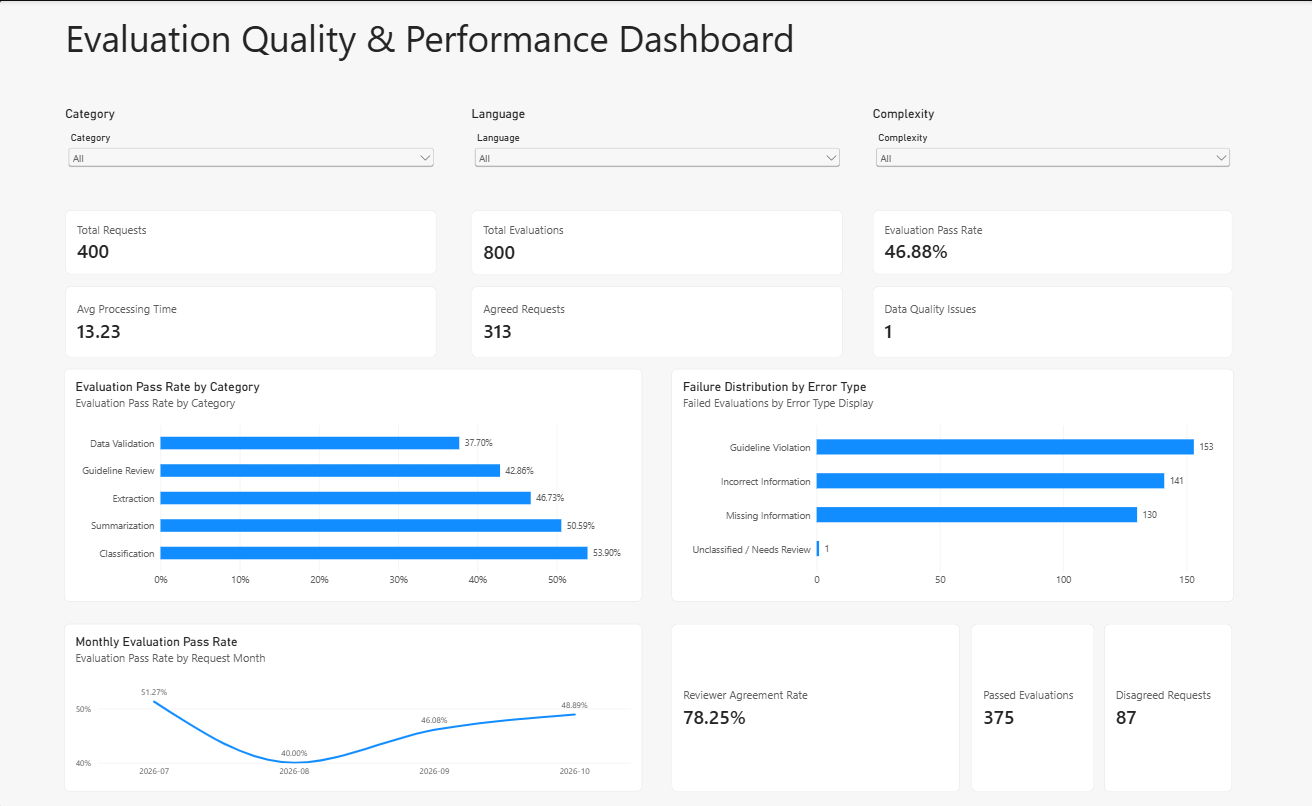

Layout of this report page (visuals, bound fields, positions):
{"tool":"powerbi","page":{"name":"Overview","canvas":[1920,1180],"ordinal":0},"visuals":[{"type":"cardVisual","fields":{"Data":["evaluations_cleaned.Total Evaluations"]},"box":[690.1,306,542.9,95.9],"z":0},{"type":"cardVisual","fields":{"Data":["evaluations_cleaned.Total Requests"]},"box":[96.9,306.9,542.9,94.1],"z":1000},{"type":"cardVisual","fields":{"Data":["_Measures.Avg Processing Time"]},"box":[96.9,417.2,542.9,105],"z":2000},{"type":"cardVisual","fields":{"Data":["_Measures.Passed Evaluations"]},"box":[1419.6,909.5,179.9,245.2],"z":3000},{"type":"cardVisual","fields":{"Data":["_Measures.Evaluation Pass Rate"]},"box":[1275.4,306.5,525.9,94.9],"z":4000},{"type":"cardVisual","fields":{"Data":["_Measures.Data Quality Issues"]},"box":[1275.4,417.2,525.9,104.8],"z":5000},{"type":"clusteredBarChart","title":"Evaluation Pass Rate by Category","fields":{"Category":["requests_cleaned.Category"],"Y":["_Measures.Evaluation Pass Rate"]},"box":[94.9,537.8,844.3,340.1],"z":6000},{"type":"clusteredBarChart","title":"Failure Distribution by Error Type","fields":{"Category":["evaluations_cleaned.Error Type Display"],"Y":["_Measures.Failed Evaluations"]},"box":[980.7,537.8,820.5,340.1],"z":7000},{"type":"lineChart","title":"Monthly Evaluation Pass Rate","fields":{"Category":["requests_cleaned.Request Month"],"Y":["_Measures.Evaluation Pass Rate"]},"box":[94.9,909.5,844.3,245.2],"z":8000},{"type":"cardVisual","fields":{"Data":["_Measures.Reviewer Agreement Rate"]},"box":[980.7,909.5,421.1,245.2],"z":9000},{"type":"cardVisual","fields":{"Data":["_Measures.Agreed Requests"]},"box":[690.1,417.2,542.9,105],"z":10000},{"type":"cardVisual","fields":{"Data":["_Measures.Disagreed Requests"]},"box":[1613.4,909.5,187.8,245.2],"z":11000},{"type":"slicer","title":"Category","fields":{"Values":["requests_cleaned.Category"]},"box":[96.9,154.2,542.9,105],"z":12000},{"type":"slicer","title":"Language","fields":{"Values":["requests_cleaned.Language"]},"box":[690.1,154.2,542.9,105],"z":13000},{"type":"slicer","title":"Complexity","fields":{"Values":["requests_cleaned.Complexity"]},"box":[1275.1,154.2,526.6,105],"z":14000},{"type":"textbox","box":[96.7,18.2,1103.3,92.9],"z":15000}]}

Visuals, with their boxes in screenshot pixels (x1, y1, x2, y2), scaled from the page's 1920x1180 canvas onto the 1312x806 screenshot:
cardVisual - evaluations_cleaned.Total Evaluations: [472,209,843,275]
cardVisual - evaluations_cleaned.Total Requests: [66,210,437,274]
cardVisual - _Measures.Avg Processing Time: [66,285,437,357]
cardVisual - _Measures.Passed Evaluations: [970,621,1093,789]
cardVisual - _Measures.Evaluation Pass Rate: [872,209,1231,274]
cardVisual - _Measures.Data Quality Issues: [872,285,1231,357]
"Evaluation Pass Rate by Category" clusteredBarChart: [65,367,642,600]
"Failure Distribution by Error Type" clusteredBarChart: [670,367,1231,600]
"Monthly Evaluation Pass Rate" lineChart: [65,621,642,789]
cardVisual - _Measures.Reviewer Agreement Rate: [670,621,958,789]
cardVisual - _Measures.Agreed Requests: [472,285,843,357]
cardVisual - _Measures.Disagreed Requests: [1102,621,1231,789]
"Category" slicer: [66,105,437,177]
"Language" slicer: [472,105,843,177]
"Complexity" slicer: [871,105,1231,177]
textbox: [66,12,820,76]
